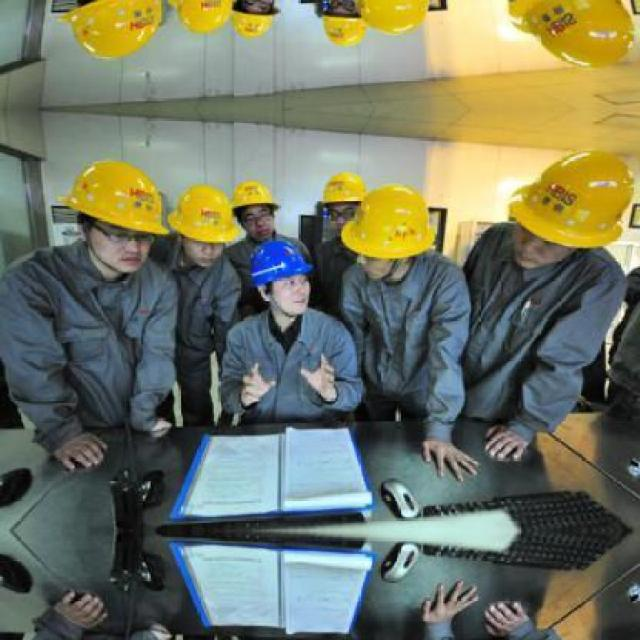helmet: (510, 149, 636, 246), (54, 160, 168, 240), (334, 183, 440, 262), (169, 186, 240, 242), (317, 170, 369, 208), (231, 177, 280, 217)
